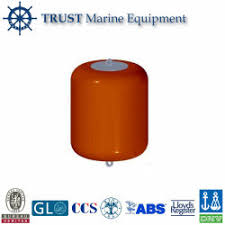buoy: (70, 58, 149, 161)
